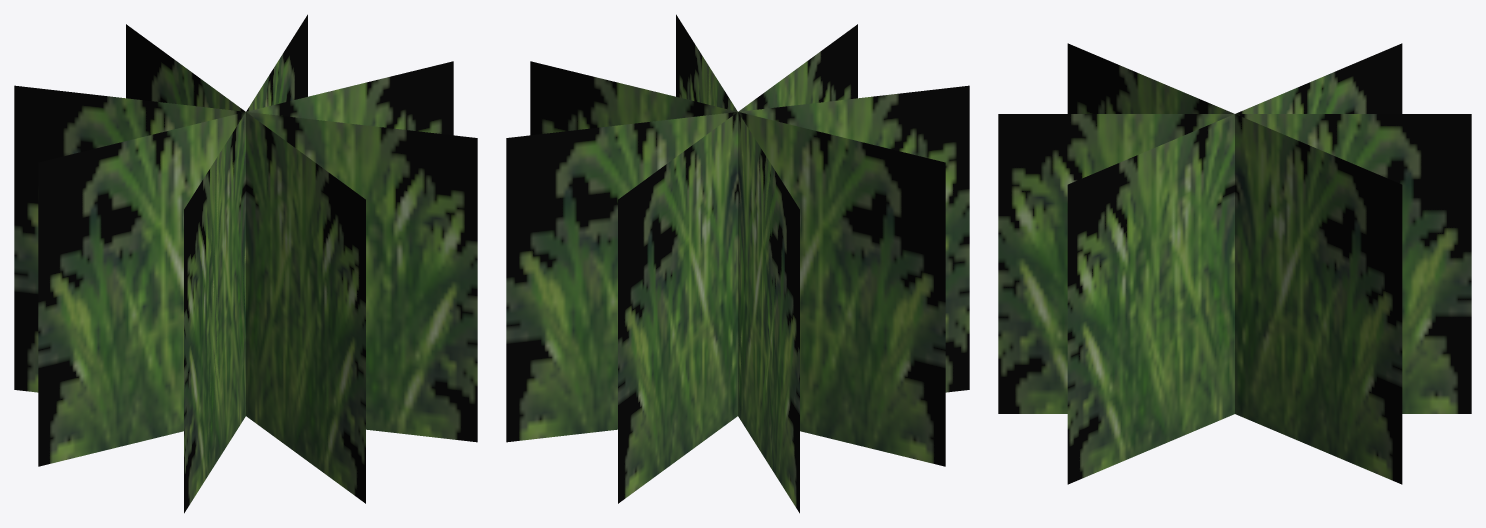
Rendered from Grass_C1.fbx.
3 views of the same model, side by side, from view 1: azimuth 30°, elevation 25°; view 2: azimuth 150°, elevation 25°; view 3: azimuth 270°, elevation 25° (orthographic).
Parts seen in each view (by area): view 1: Grass_C1; view 2: Grass_C1; view 3: Grass_C1.
Boxes of the visible parts, x1,y1,x2,y2 form: Grass_C1: (14,14,477,513); Grass_C1: (506,14,969,513); Grass_C1: (998,43,1471,484).
Bounding box in the file's own units: 1 × 0.7 × 1.
